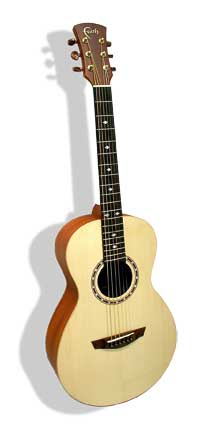guitar: (43, 20, 179, 410)
